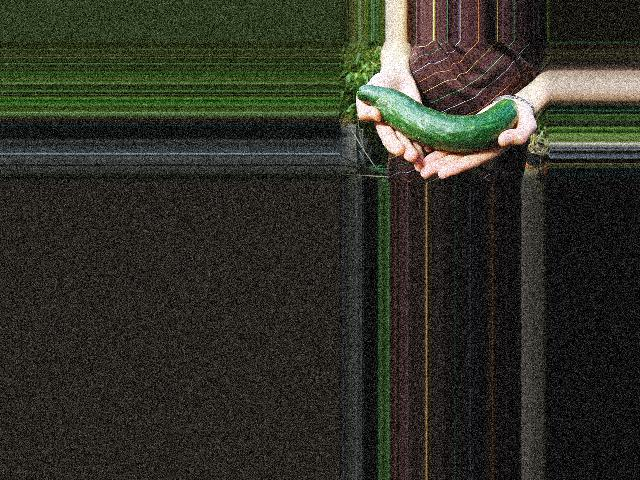cucumber: (357, 85, 519, 152)
